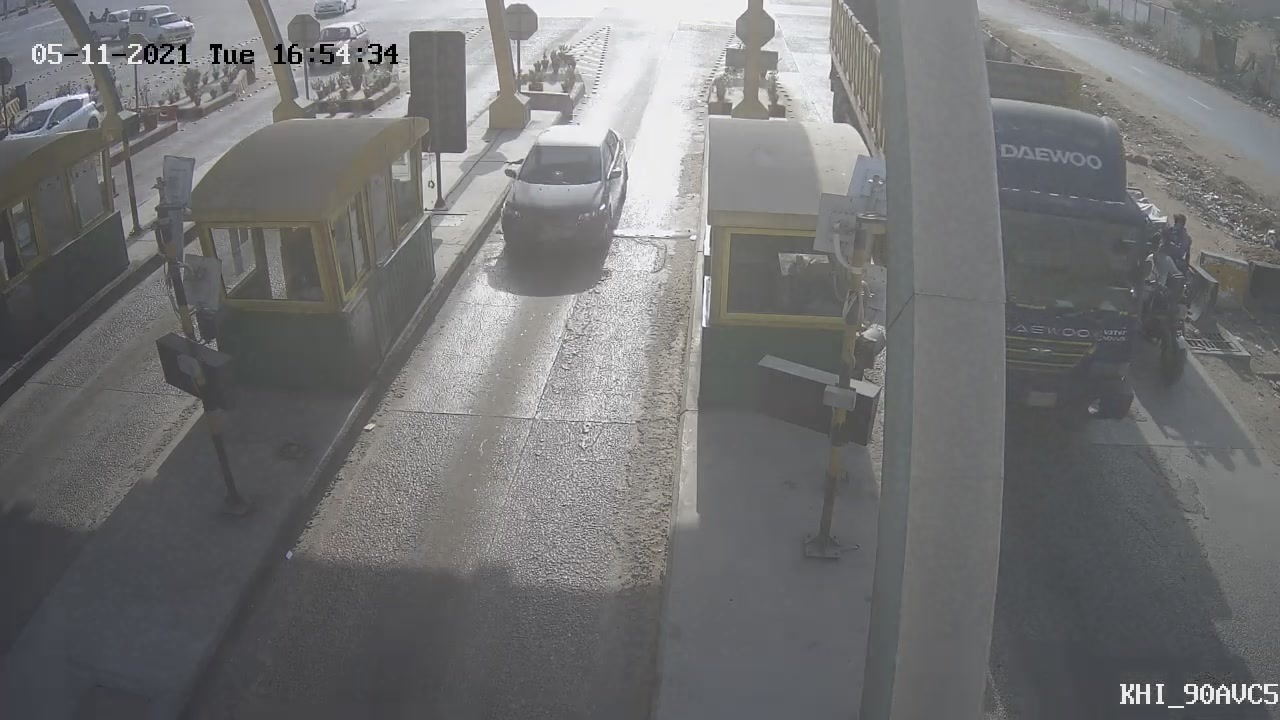F1: (478, 107, 646, 281)
